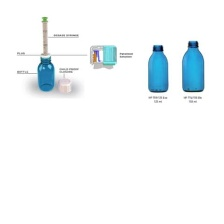bottle: (179, 38, 207, 92), (144, 42, 169, 93), (34, 52, 56, 93)
